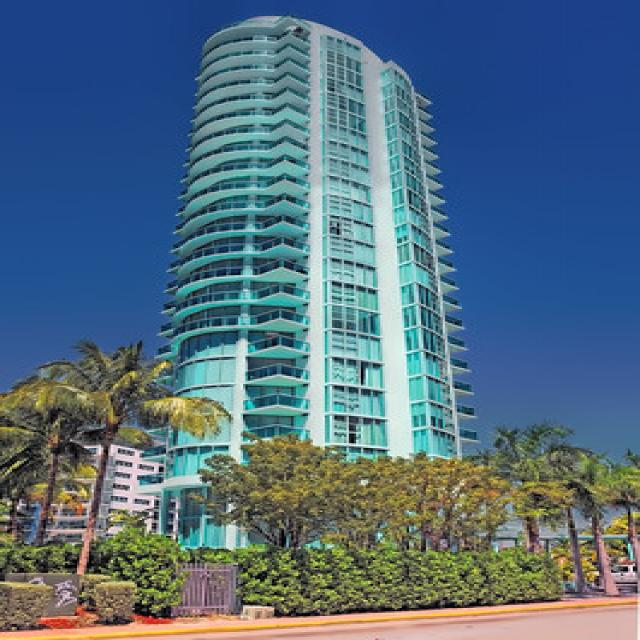Normal_building: (142, 8, 488, 571)
